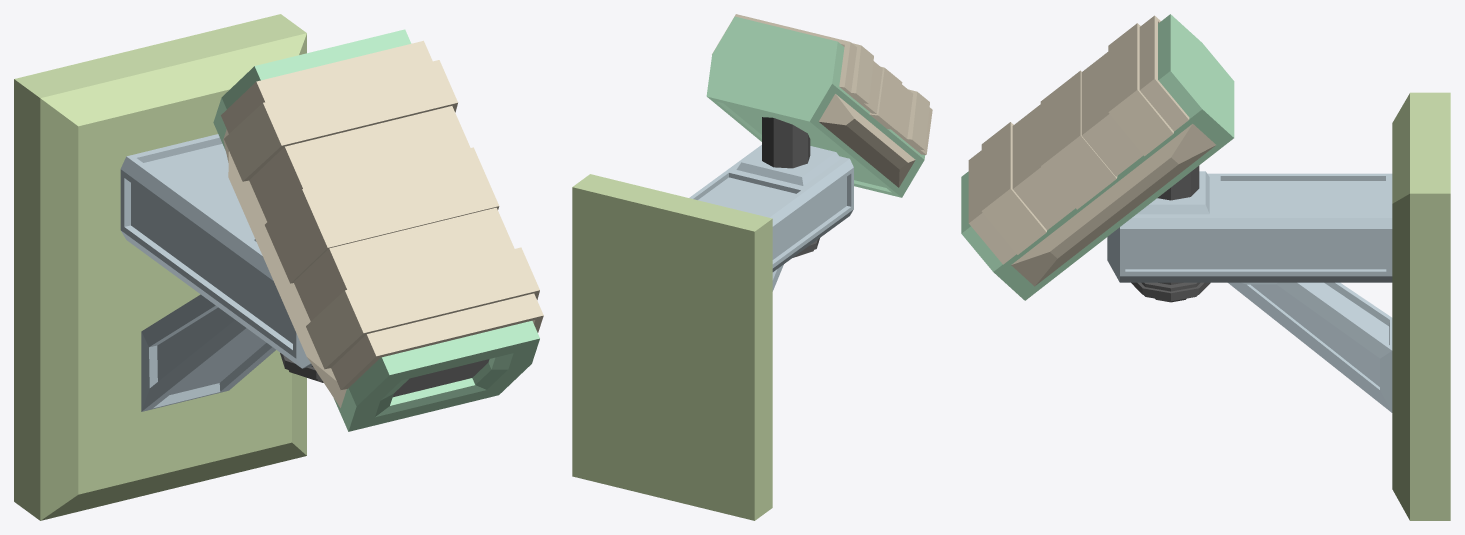
File: Character_Rooms_Camera.fbx
The picture shows the model from 3 angles, left to right: view 1: azimuth 30°, elevation 25°; view 2: azimuth 150°, elevation 25°; view 3: azimuth 270°, elevation 25°; orthographic projection. The views are drawn at different scales.
Parts seen in each view (by area): view 1: Cube.005, Cube.010; view 2: Cube.005, Cube.010; view 3: Cube.005, Cube.010.
Part boxes in pixels (x1,y1,x2,y2): Cube.005: (14,14,312,520); Cube.010: (213,29,543,431); Cube.005: (572,145,853,520); Cube.010: (706,14,932,257); Cube.005: (1107,92,1450,520); Cube.010: (961,14,1234,302).
Bounding box in the file's own units: 52.94 × 105 × 109.
